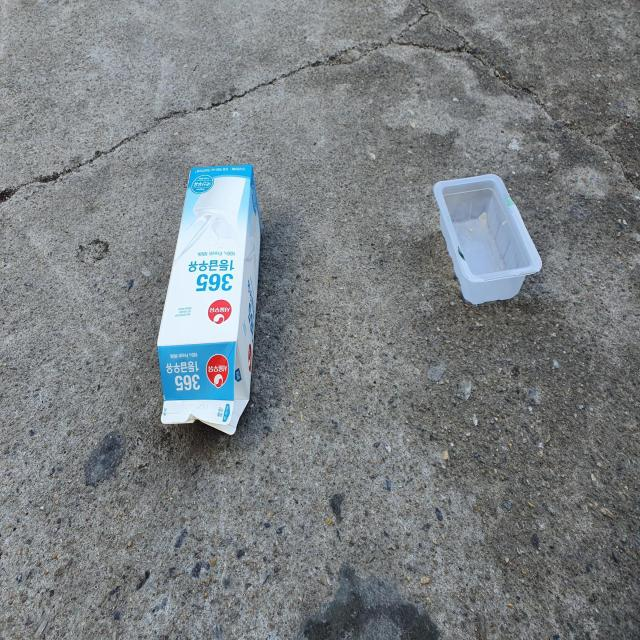paperpack: (157, 165, 261, 435)
plastic: (434, 173, 543, 304)
